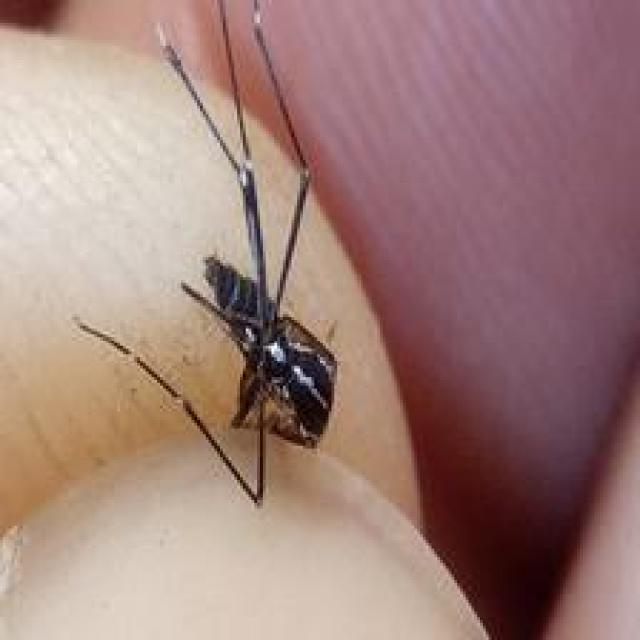Aedes albopictus: (73, 0, 341, 506)
